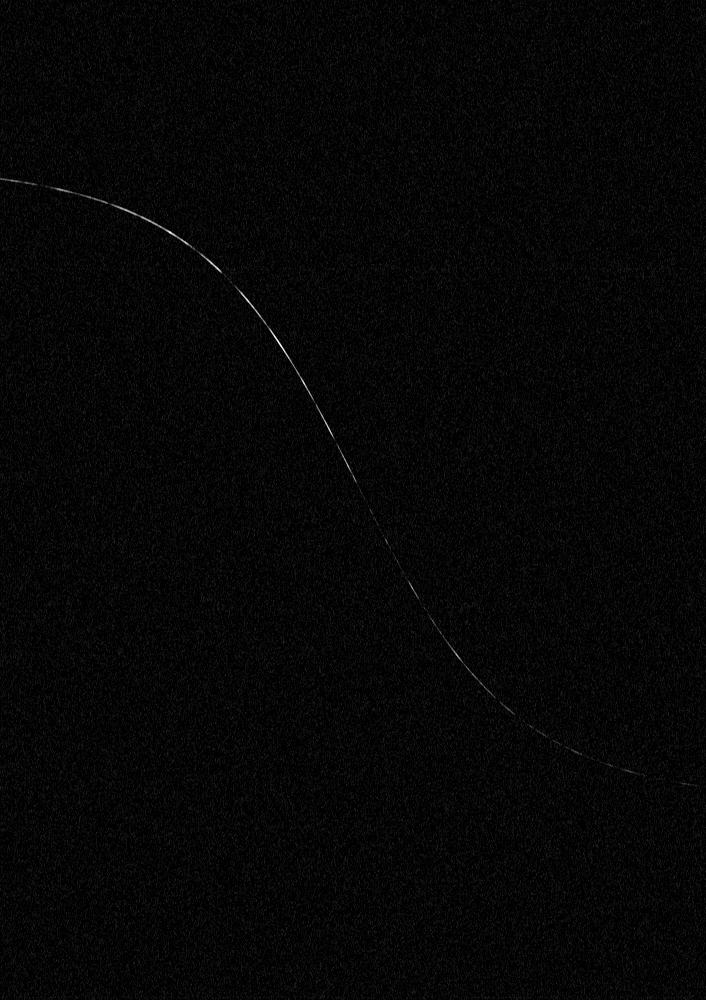signal: (0, 0, 705, 999)
